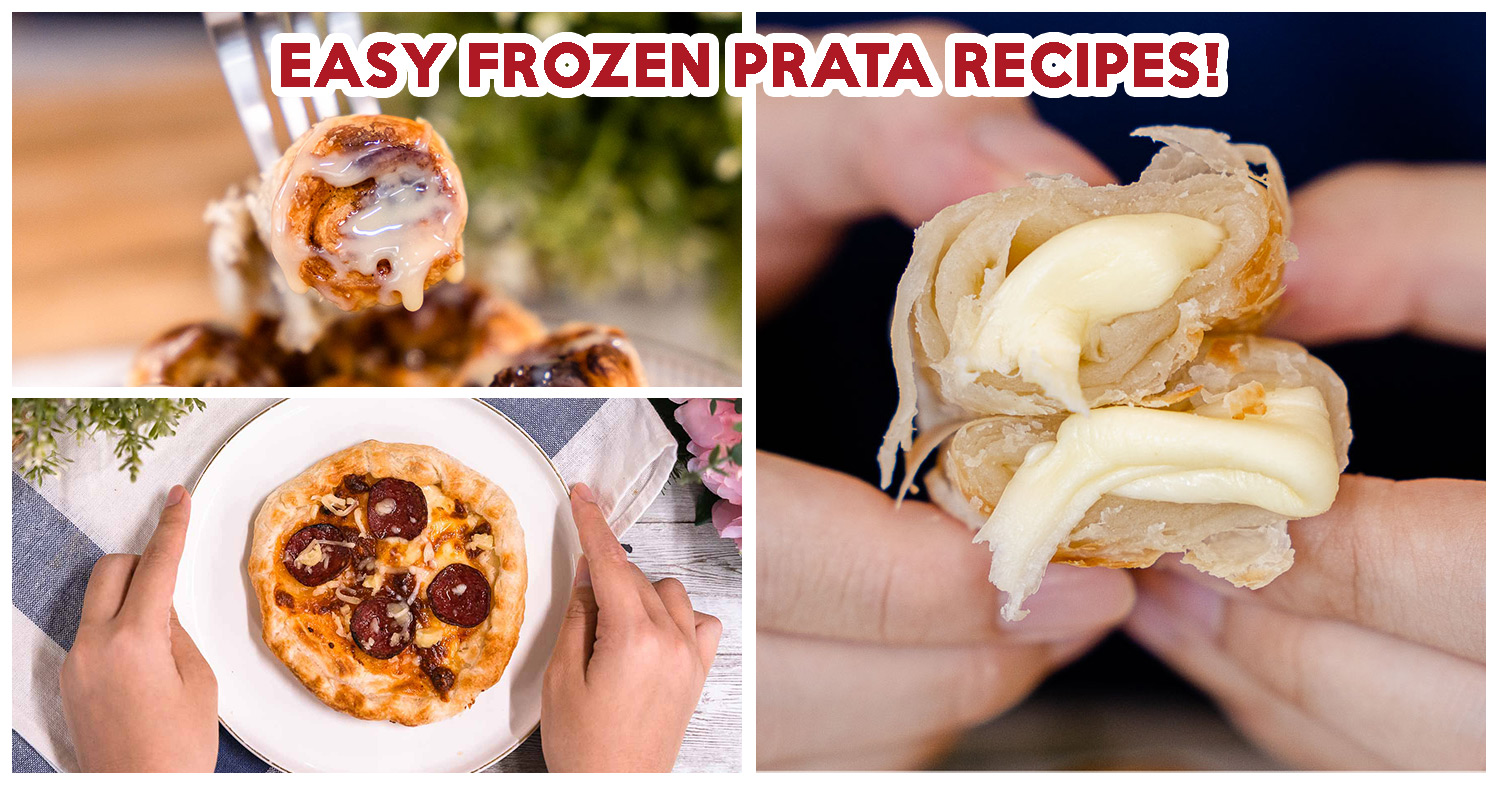Prata: (242, 437, 525, 727)
